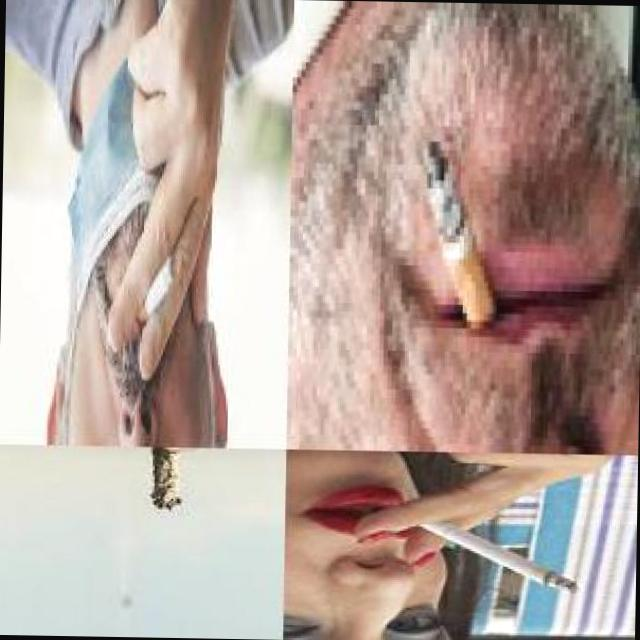cigarette: (420, 138, 505, 353), (427, 523, 589, 599), (139, 252, 176, 324), (147, 448, 184, 516)
